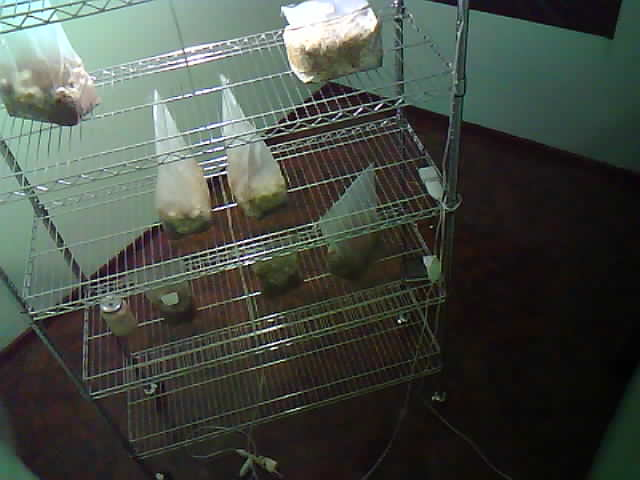bloco: (4, 4, 130, 135), (212, 79, 306, 211), (142, 95, 212, 252), (284, 3, 402, 87), (322, 173, 397, 285), (132, 258, 206, 328), (252, 240, 312, 312)
